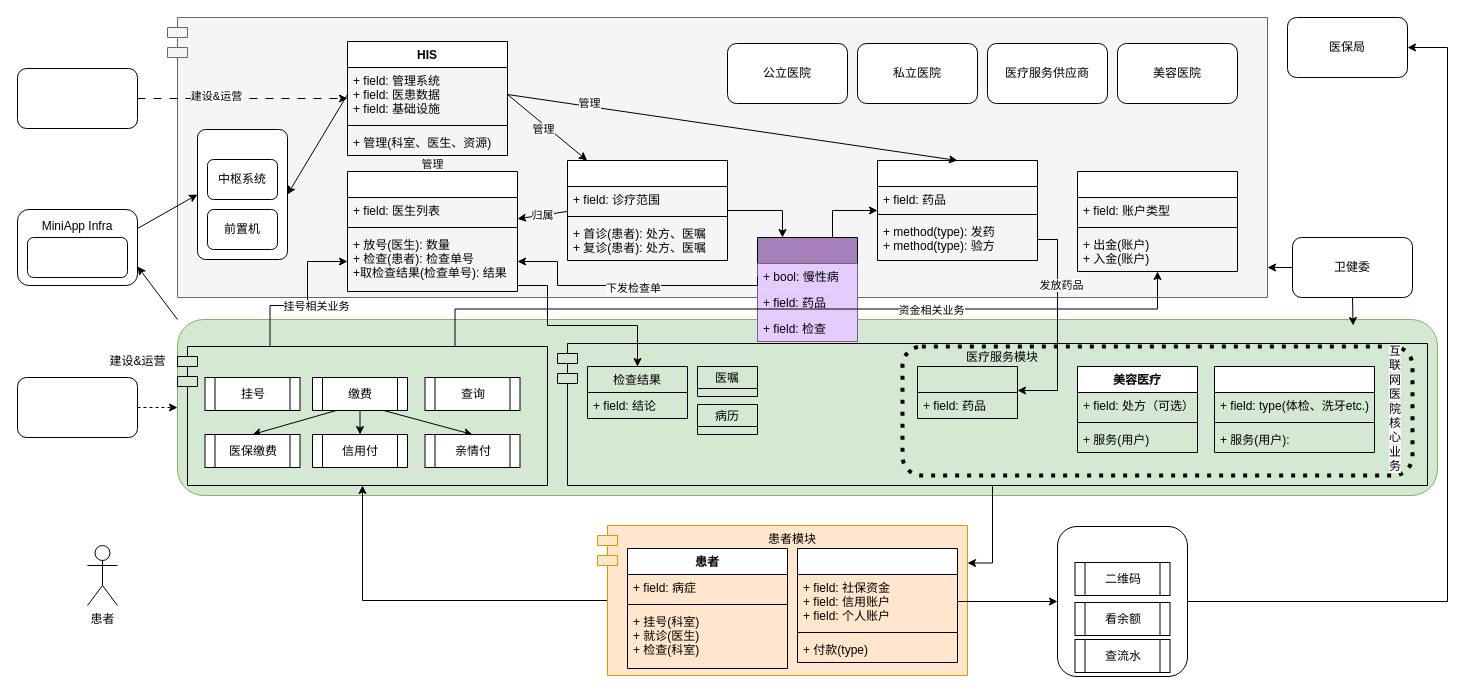
Some shapes in this 1473 by 694 pixel diagram are drawn without their labels. The shapes that lost their labels are listed below. From the top down, each one's box as (x1, y1, x2, y2) in pixels, then its label:
(16, 68, 138, 128): HIS ISV
(166, 16, 1268, 298): 医院模块
(196, 128, 288, 260): HIS Infra
(566, 160, 728, 260): 医生
(876, 160, 1038, 260): 药房&药剂师
(346, 170, 518, 292): 科室
(1076, 170, 1238, 272): 资金账户
(26, 236, 128, 278): 公有云服务器
(756, 236, 858, 342): 处方
(16, 376, 138, 438): 小程序ISV
(916, 366, 1018, 418): 药品
(1214, 366, 1374, 452): 消费型医疗
(176, 346, 548, 486): 就诊服务模块
(796, 548, 958, 662): 资金
(1056, 526, 1188, 676): 医保小程序
